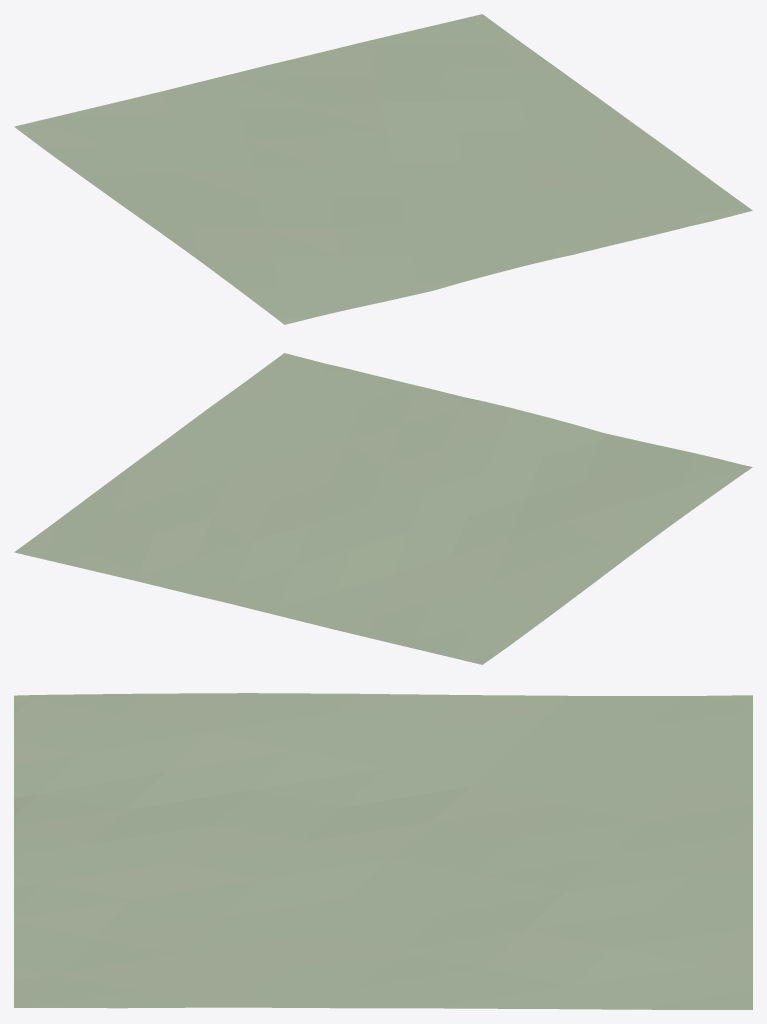
File: SM_MPRR_Terrain_-1_3.fbx
3 renders of one model, top to bottom at view 1: azimuth 30°, elevation 25°; view 2: azimuth 150°, elevation 25°; view 3: azimuth 270°, elevation 25°, orthographic. The views are drawn at different scales.
Parts seen in each view (by area): view 1: SM_MPRR_Terrain_-1_3; view 2: SM_MPRR_Terrain_-1_3; view 3: SM_MPRR_Terrain_-1_3.
Boxes of the visible parts, x1,y1,x2,y2 form: SM_MPRR_Terrain_-1_3: [14, 14, 752, 324]; SM_MPRR_Terrain_-1_3: [14, 353, 752, 664]; SM_MPRR_Terrain_-1_3: [14, 693, 752, 1009].
Size of the model in its own units: 15000 by 15000 by 122.
